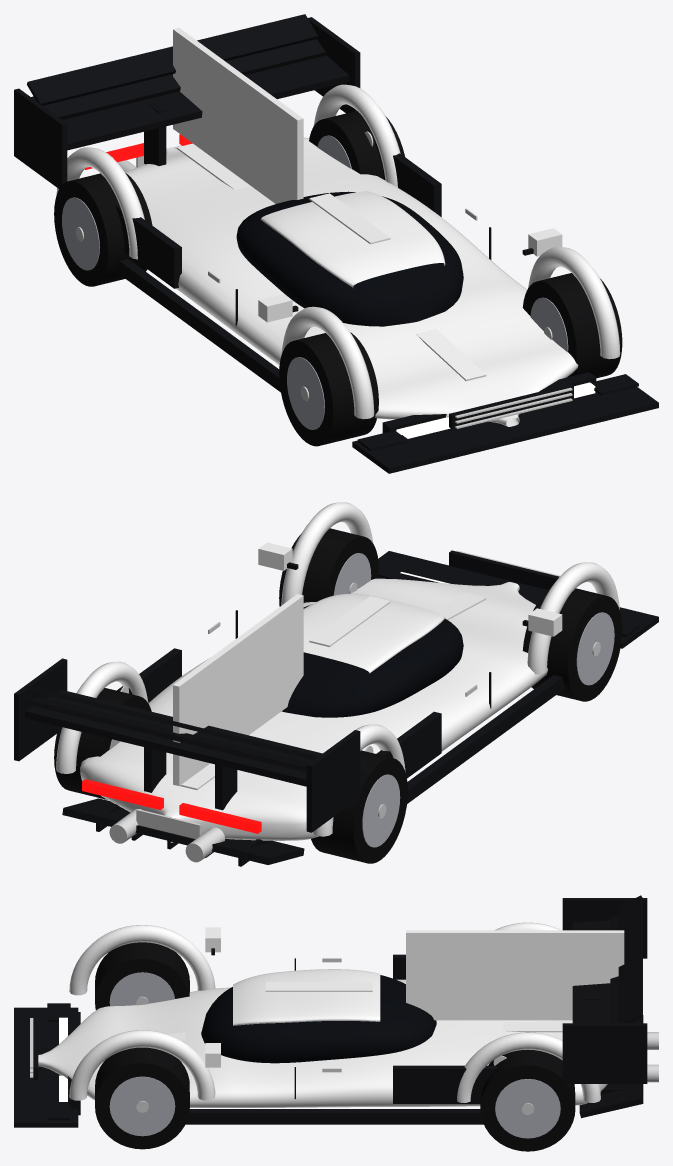
The model's file is car_hcx.glb.
The picture shows the model from 3 angles, top to bottom: view 1: azimuth 30°, elevation 25°; view 2: azimuth 150°, elevation 25°; view 3: azimuth 270°, elevation 25°; orthographic projection. The views are drawn at different scales.
Parts seen in each view (by area): view 1: body, tire (×4), fin0, cabin, roof, splitter, wing_top, wing_main, rim (×3), wing_flap, plate_end-1, skirtR (+14 smaller); view 2: body, tire (×4), fin0, cabin, wing_main, roof, rim (×3), plate_end-1, skirtR, diffuser, wing_flap, splitter (+20 smaller); view 3: body, fin0, tire (×3), cabin, rim (×3), roof, plate_end1, skirtL, splitter, flareL1.5, flareR1.5, intakeL (+14 smaller).
Part boxes in pixels (x1,y1,x2,y2): body: (125, 137, 578, 426); tire (×4): (54, 111, 622, 446); fin0: (173, 28, 303, 203); cabin: (236, 191, 463, 326); roof: (260, 191, 445, 287); splitter: (352, 387, 658, 473); wing_top: (27, 14, 317, 105); wing_main: (62, 54, 349, 150); rim (×3): (62, 197, 568, 429); wing_flap: (31, 39, 325, 119); plate_end-1: (14, 88, 67, 188); skirtR: (116, 259, 280, 392); body: (80, 578, 547, 842); tire (×4): (54, 528, 622, 863); fin0: (173, 594, 303, 785); cabin: (282, 604, 463, 717); wing_main: (25, 690, 322, 786); roof: (303, 593, 444, 673); rim (×3): (333, 553, 614, 847); plate_end-1: (306, 730, 360, 832); skirtR: (407, 675, 565, 803); diffuser: (62, 798, 304, 864); wing_flap: (24, 698, 309, 772); splitter: (378, 551, 658, 648); body: (38, 979, 607, 1107); fin0: (406, 930, 624, 1020); tire (×3): (95, 942, 575, 1151); cabin: (201, 975, 436, 1063); rim (×3): (109, 972, 560, 1138); roof: (233, 969, 380, 1025); plate_end1: (562, 1023, 647, 1083); skirtL: (185, 1109, 483, 1124); splitter: (14, 1007, 78, 1127); flareL1.5: (69, 1030, 215, 1100); flareR1.5: (69, 925, 215, 995); intakeL: (393, 1065, 496, 1103).
Size of the model in its own units: 2.39 by 1.34 by 5.02.
